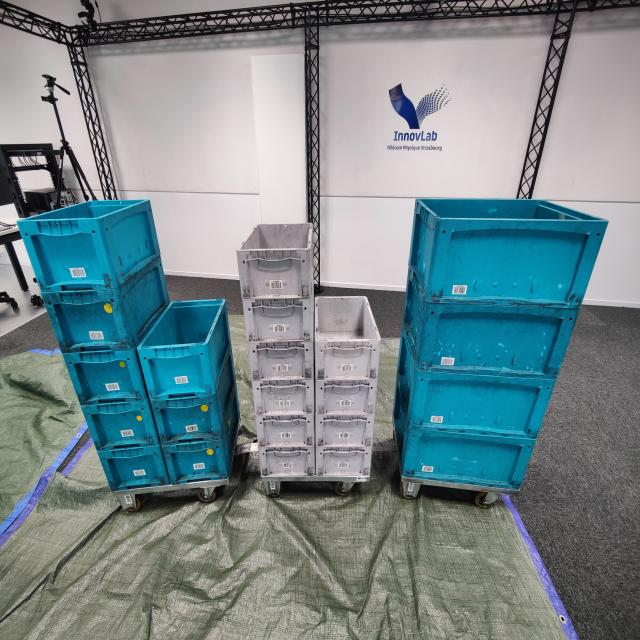Box8G: (236, 220, 315, 298), (314, 294, 380, 382), (240, 298, 316, 342), (246, 338, 317, 383), (313, 376, 379, 421), (314, 414, 376, 450), (256, 413, 316, 449), (255, 378, 310, 414), (316, 448, 377, 480), (257, 448, 314, 476)
BoxB4: (407, 194, 611, 312), (402, 271, 584, 382), (392, 331, 557, 447), (390, 381, 538, 496)
BoxB8: (14, 195, 164, 292), (38, 254, 172, 356), (137, 300, 237, 400), (151, 348, 247, 446), (161, 388, 246, 488), (59, 348, 146, 412), (80, 399, 158, 465), (97, 442, 171, 495)
